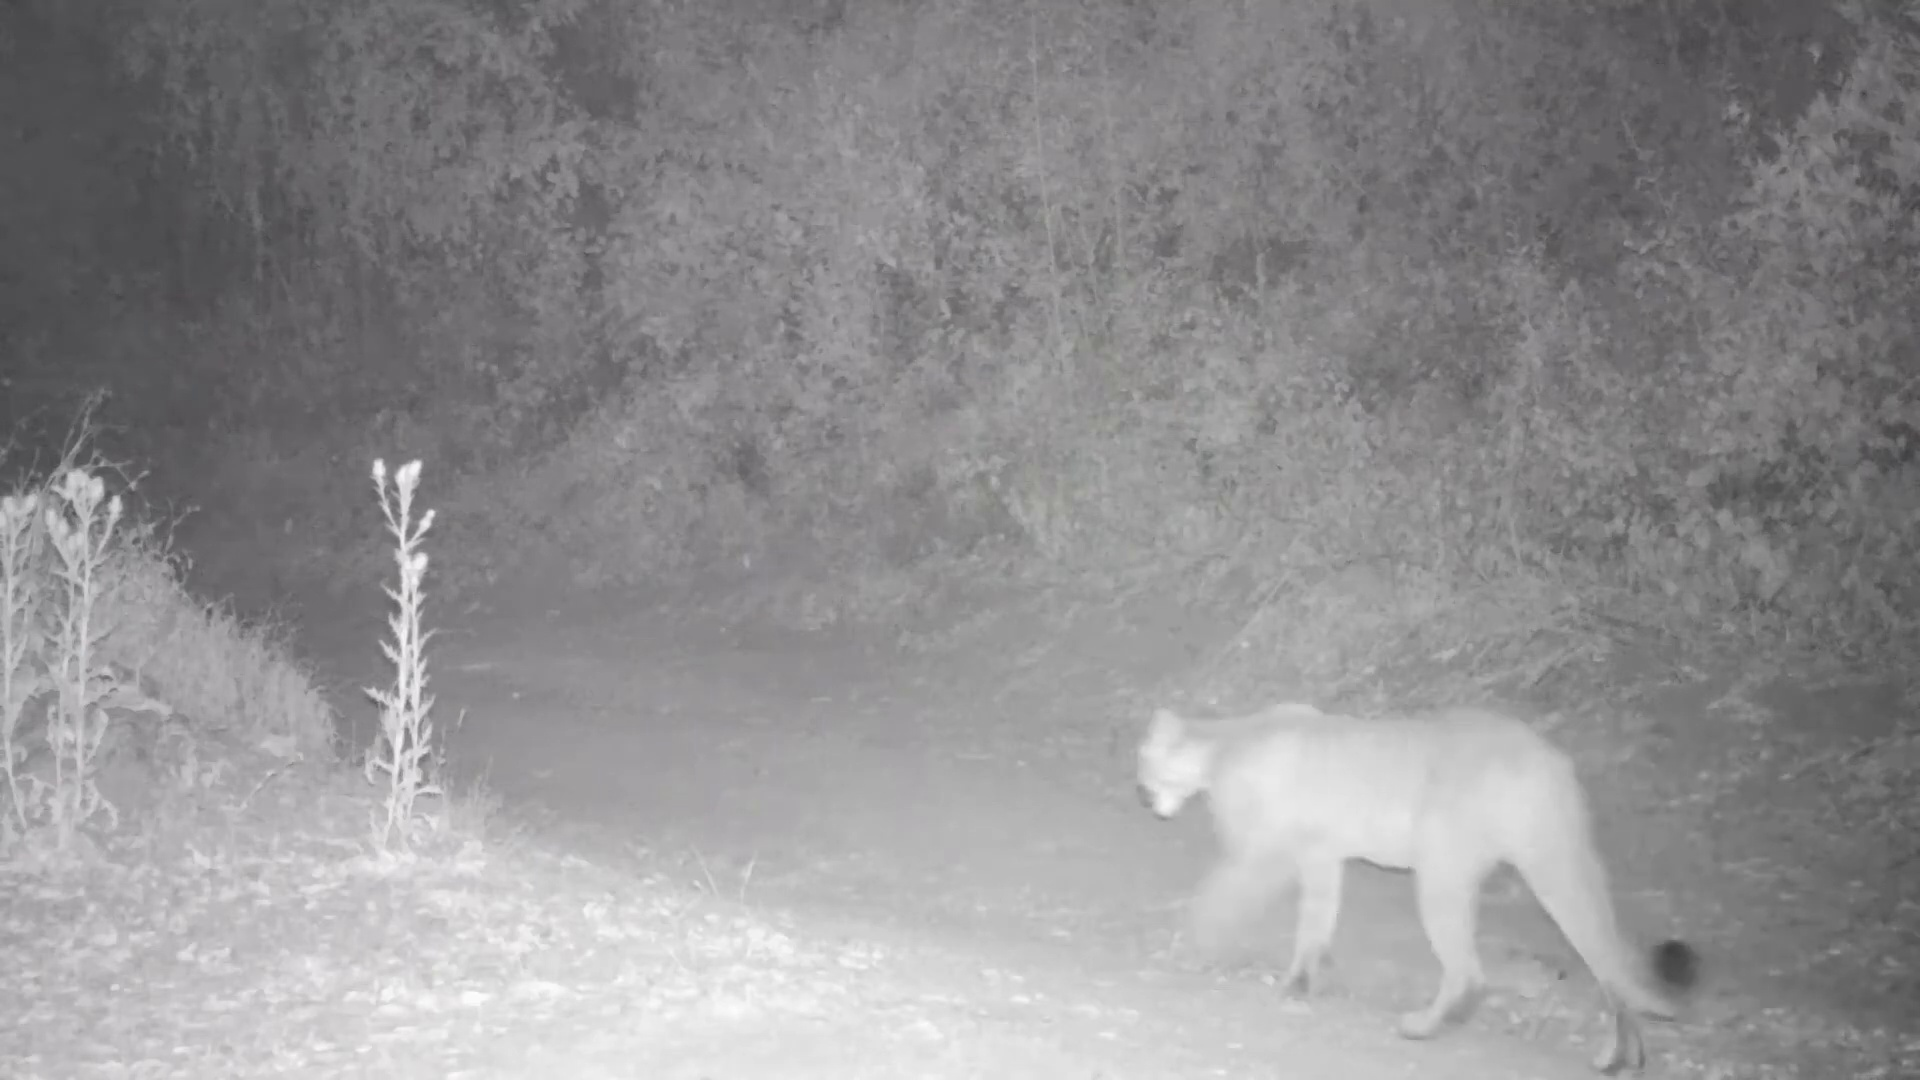Lion: (1131, 694, 1702, 1080)
